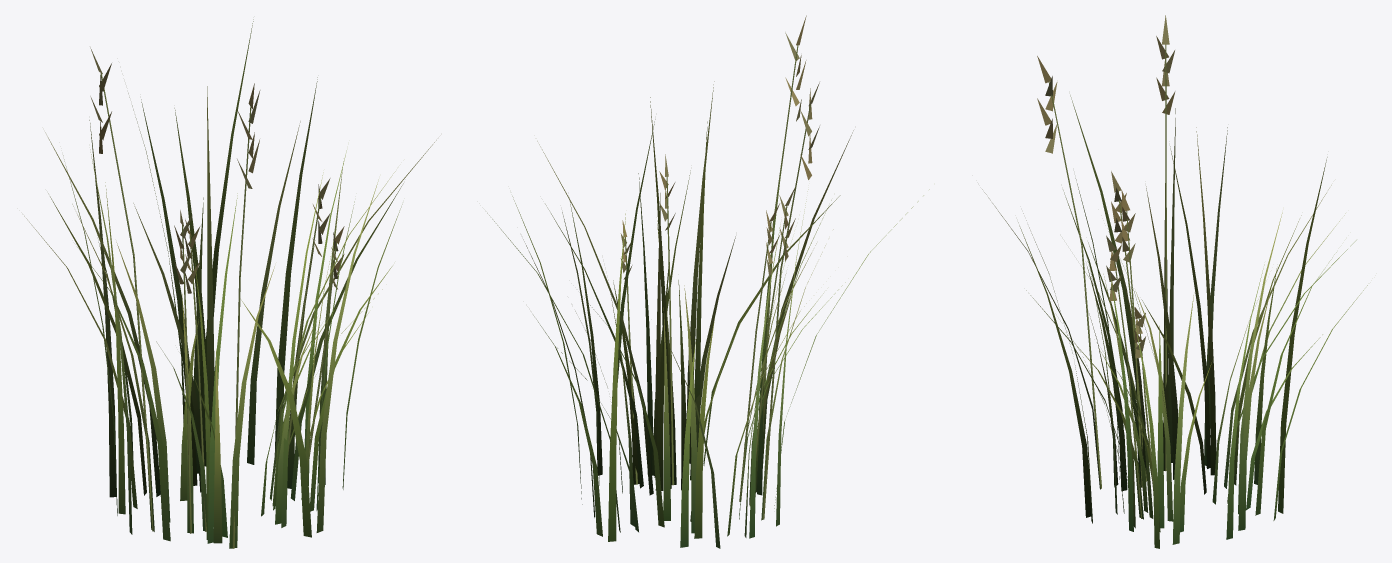
Rendered from grass-meadow-a.lod0.glb.
3 views of the same model, side by side, from view 1: azimuth 30°, elevation 25°; view 2: azimuth 150°, elevation 25°; view 3: azimuth 270°, elevation 25° (orthographic). The views are drawn at different scales.
Parts seen in each view (by area): view 1: grass-meadow-a.lod0; view 2: grass-meadow-a.lod0; view 3: grass-meadow-a.lod0.
Boxes of the visible parts, x1,y1,x2,y2 form: grass-meadow-a.lod0: [24, 19, 436, 548]; grass-meadow-a.lod0: [487, 15, 929, 548]; grass-meadow-a.lod0: [982, 15, 1367, 548].
Bounding box in the file's own units: 0.6286 × 0.7249 × 0.6202.
